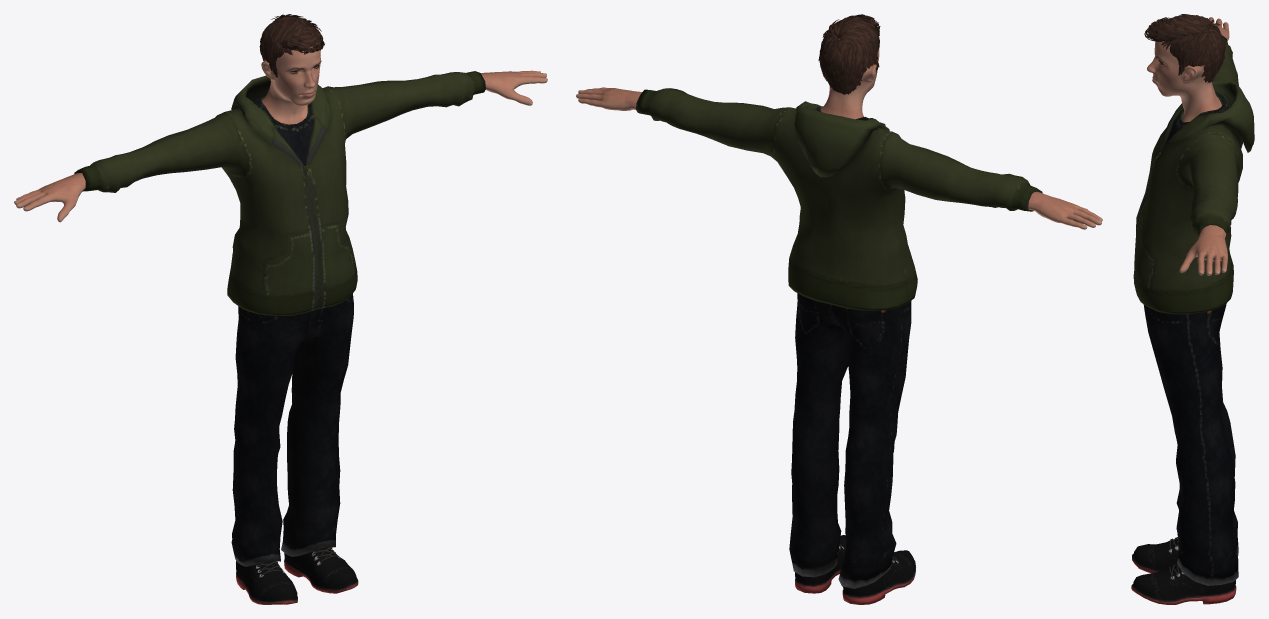
The model's file is tyler.obj.
3 views of the same model, side by side, from view 1: azimuth 30°, elevation 25°; view 2: azimuth 150°, elevation 25°; view 3: azimuth 270°, elevation 25° (orthographic).
Visible parts, largest first — view 1: Tops, Bottoms, Body, Shoes, Hair; view 2: Tops, Bottoms, Body, Hair, Shoes; view 3: Tops, Bottoms, Body, Shoes, Hair.
Boxes of the visible parts, left/top/right/bottom form: Tops: left=74, top=71, right=485, bottom=315; Bottoms: left=231, top=293, right=353, bottom=566; Body: left=14, top=19, right=547, bottom=222; Shoes: left=236, top=547, right=358, bottom=604; Hair: left=259, top=14, right=324, bottom=77; Tops: left=636, top=88, right=1042, bottom=311; Bottoms: left=789, top=293, right=911, bottom=588; Body: left=576, top=23, right=1102, bottom=229; Hair: left=818, top=14, right=880, bottom=94; Shoes: left=795, top=535, right=915, bottom=604; Tops: left=1133, top=36, right=1254, bottom=314; Bottoms: left=1143, top=304, right=1238, bottom=585; Body: left=1147, top=17, right=1229, bottom=275; Shoes: left=1131, top=537, right=1236, bottom=604; Hair: left=1144, top=14, right=1225, bottom=83.
Bounding box in the file's own units: 176 × 181 × 35.54.
1 material, 1 textured.
